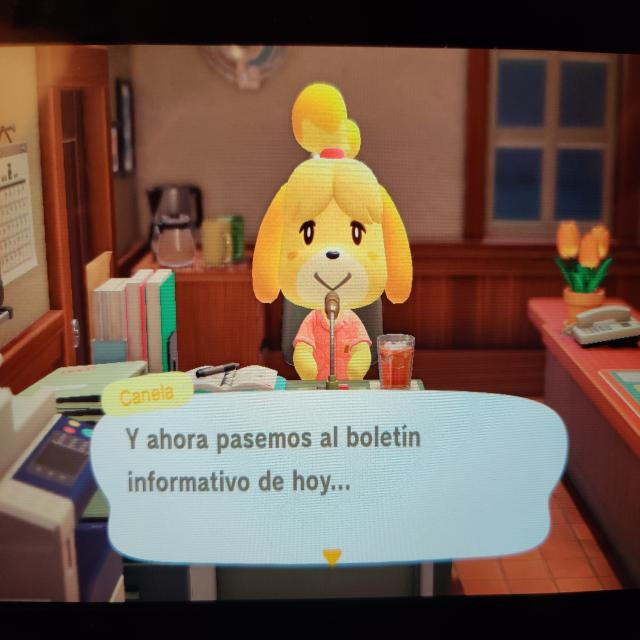text_bubble: (87, 372, 572, 567)
